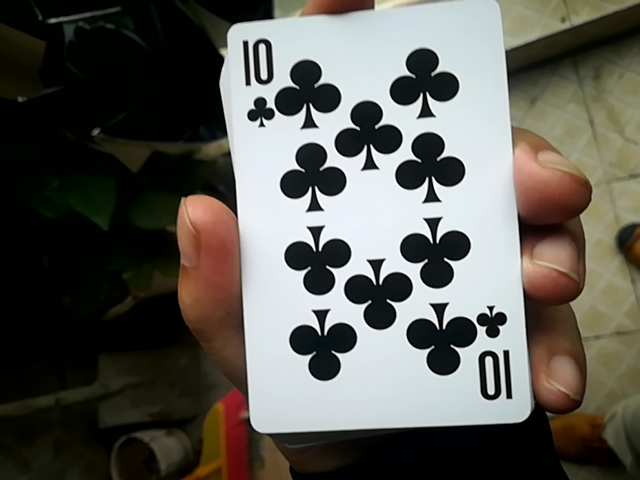mh 10: (215, 4, 528, 428)
